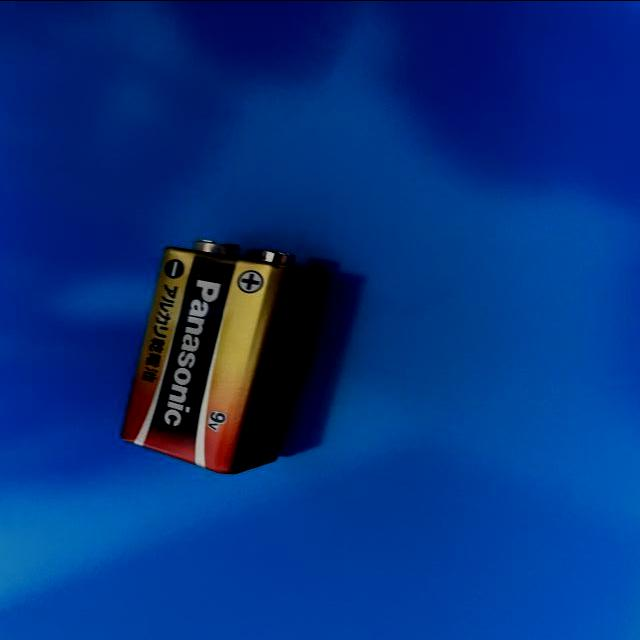9V: (121, 238, 315, 474)
